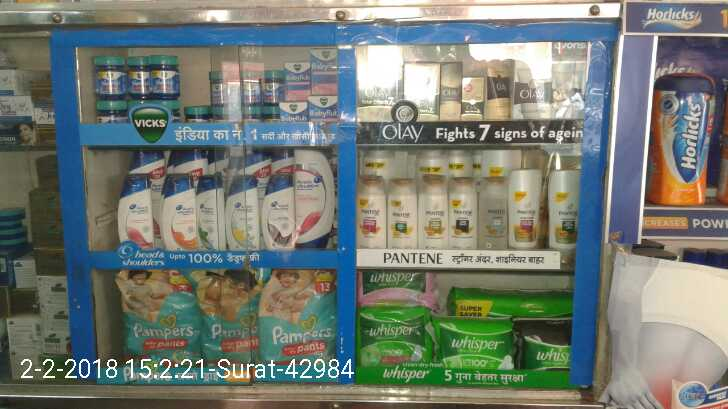beauty: (116, 173, 153, 249), (161, 175, 198, 250), (506, 170, 542, 247), (548, 167, 581, 247), (265, 170, 295, 249), (224, 179, 257, 250), (385, 178, 417, 249), (419, 173, 449, 247), (355, 178, 387, 247), (196, 175, 224, 253), (450, 175, 477, 253), (513, 68, 550, 119), (482, 61, 511, 118), (440, 59, 463, 122)
pharmacy: (182, 48, 345, 125), (118, 268, 203, 379), (258, 269, 340, 375), (192, 267, 263, 371), (357, 305, 431, 367), (437, 314, 517, 370), (87, 52, 125, 99), (147, 52, 179, 95), (127, 55, 149, 97)
